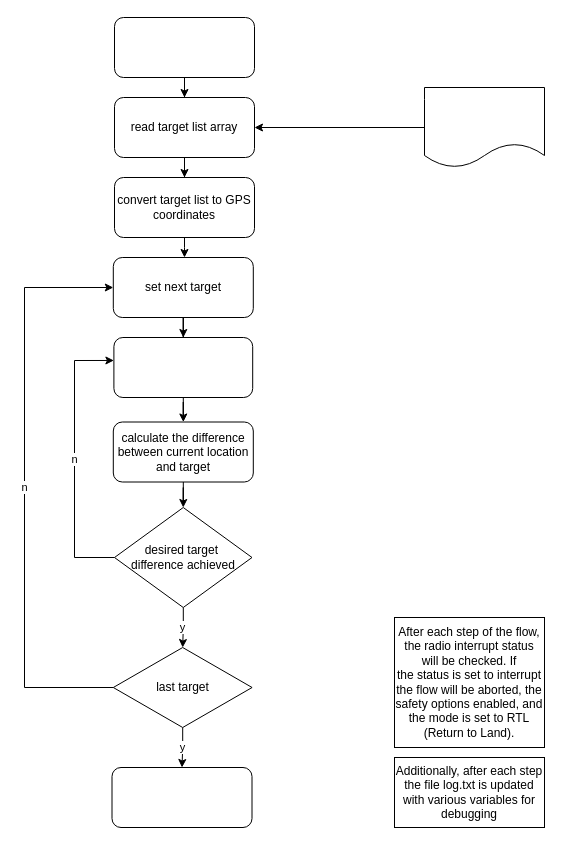
Image size: 562x845. Some labels were removed from this diagram. Each missing label, with the centre of its shape:
coordinates.txt (coordinates relative to home_location): the point at 484,127
fly in direction to target for the next second: the point at 183,367
mode return to land (RTL) is set: the point at 181,797
setting home_location: the point at 184,47
